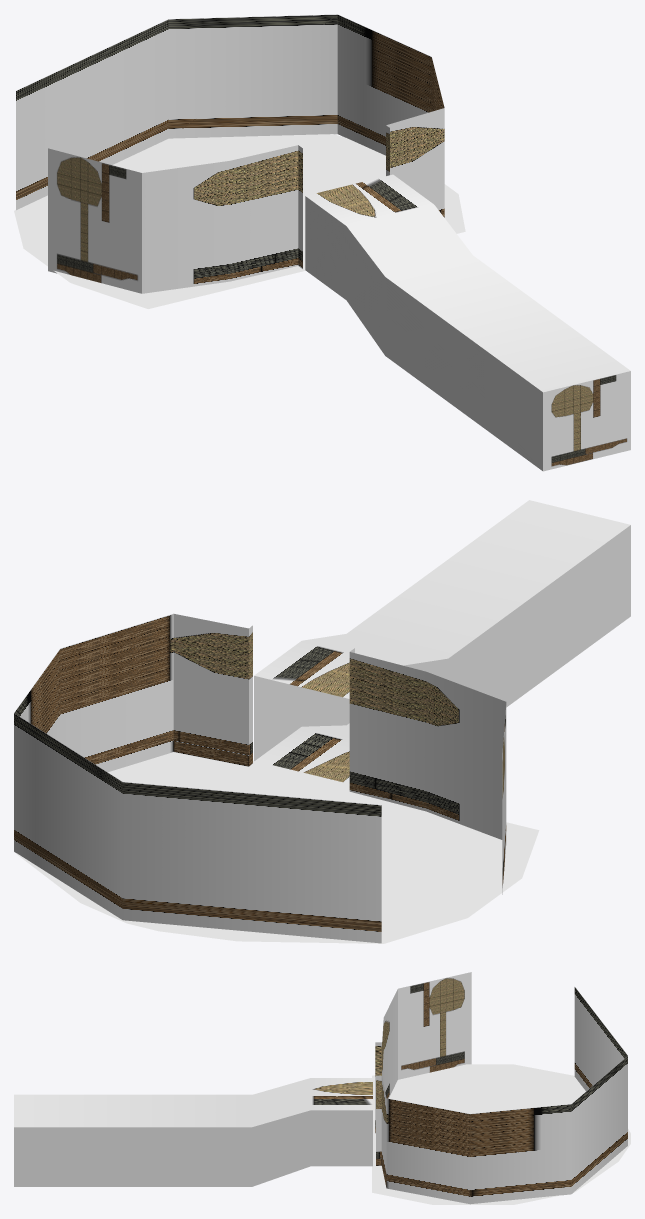
Rendered from test_maze_cd.obj.
The picture shows the model from 3 angles, top to bottom: view 1: azimuth 30°, elevation 25°; view 2: azimuth 150°, elevation 25°; view 3: azimuth 270°, elevation 25°; orthographic projection. The views are drawn at different scales.
Visible parts, largest first — view 1: mesh01; view 2: mesh01; view 3: mesh01.
Part boxes in pixels (x1,y1,x2,y2): mesh01: (14, 14, 630, 471); mesh01: (14, 500, 630, 943); mesh01: (14, 972, 630, 1204).
Bounding box in the file's own units: 1173 × 431 × 2157.
Materials: 1 (1 with a texture image).
